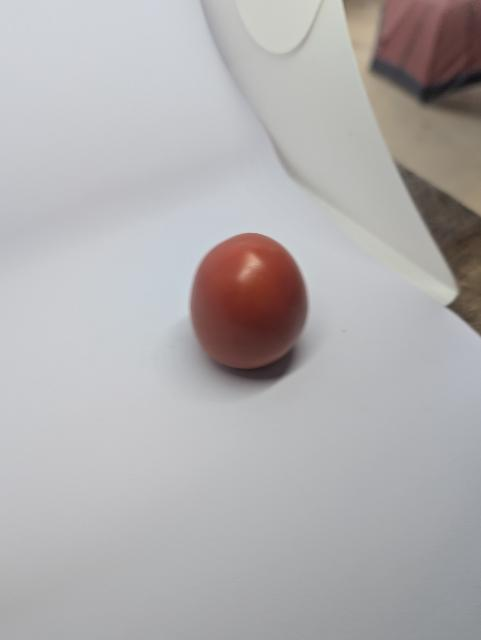red: (176, 227, 333, 394)
